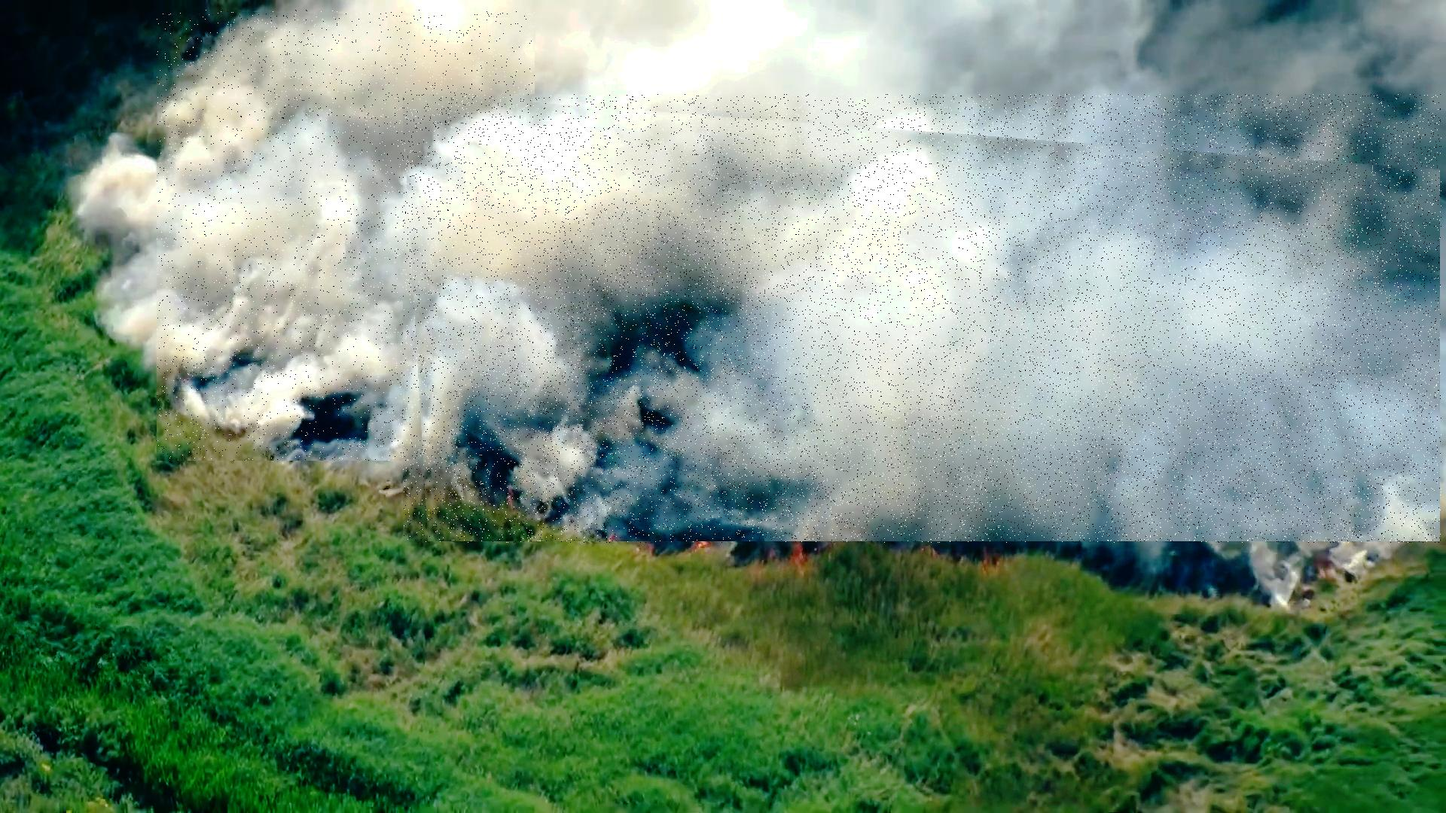smoke: (403, 95, 1442, 544), (157, 10, 536, 461)
